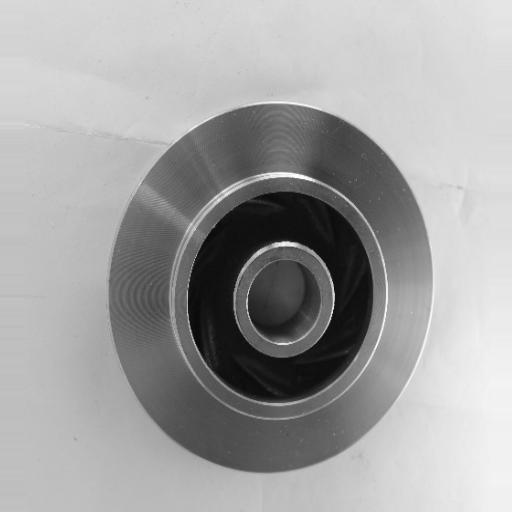polished_casting: (105, 99, 433, 476)
